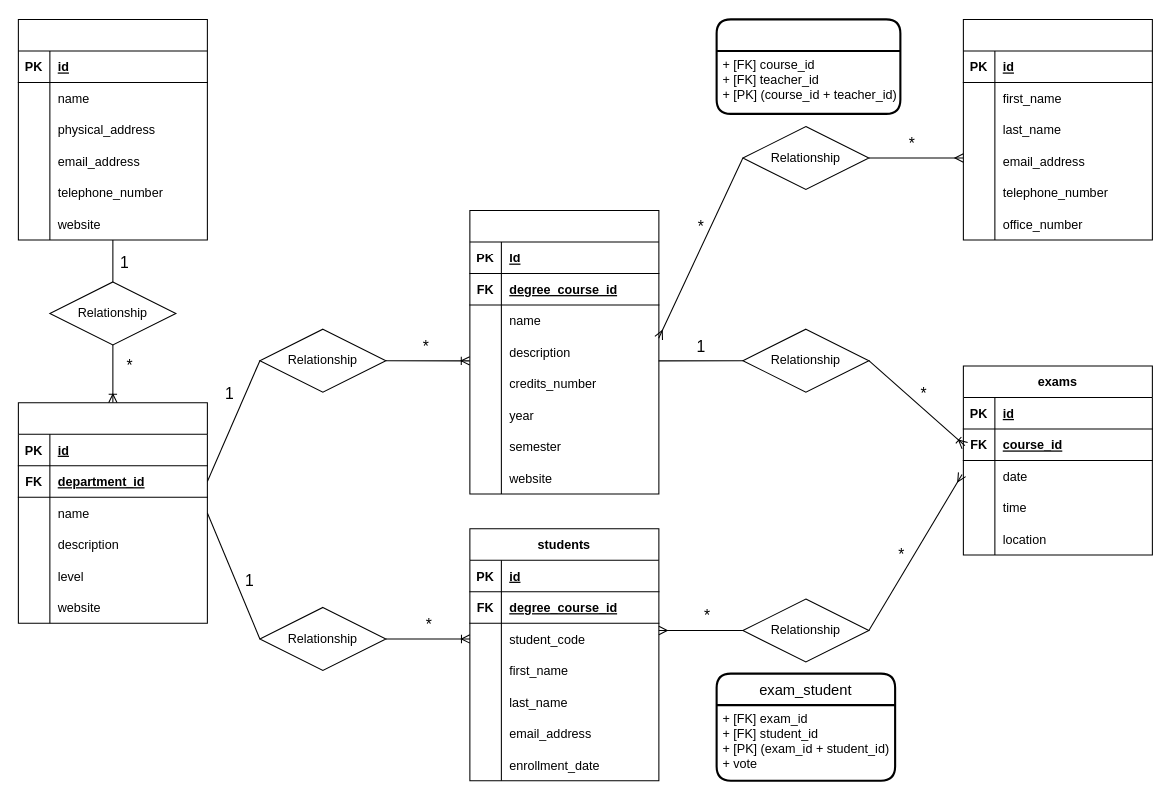
Image size: 1171x799. Some labels were removed from this diagram. The shapes that lost their labels are listed below. From the top down, each one's box as (x1, y1, x2, y2) in pixels, then its label:
(715, 18, 901, 114): course_teacher
(17, 18, 207, 240): departments
(962, 18, 1152, 240): teachers
(469, 209, 659, 494): courses
(17, 402, 207, 623): degree_courses
